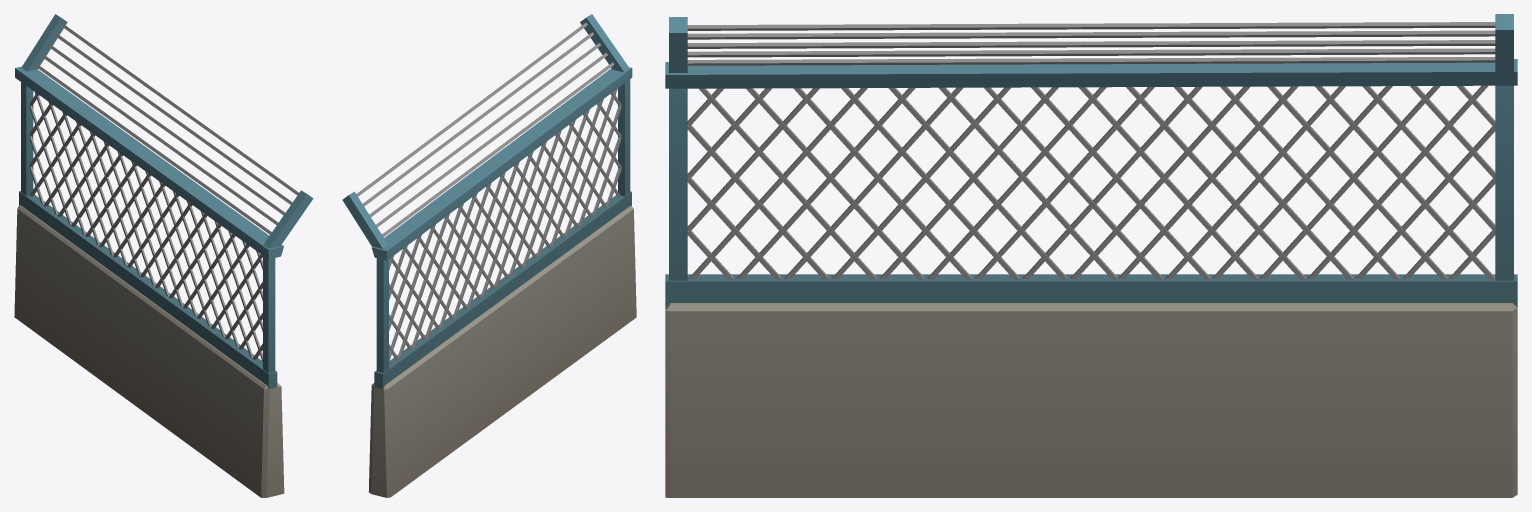
The model's file is Fence_6_1_E.glb.
The picture shows the model from 3 angles, left to right: view 1: azimuth 30°, elevation 25°; view 2: azimuth 150°, elevation 25°; view 3: azimuth 270°, elevation 25°; orthographic projection. The views are drawn at different scales.
Visible parts, largest first — view 1: Fence_6_1_E; view 2: Fence_6_1_E; view 3: Fence_6_1_E.
Part boxes in pixels (box(x1,y1,x2,y2)): Fence_6_1_E: box(14, 14, 313, 497); Fence_6_1_E: box(342, 14, 636, 497); Fence_6_1_E: box(665, 14, 1517, 497).
Bounding box in the file's own units: 0.7215 × 3.88 × 6.
Materials: 3 (3 with a texture image).
